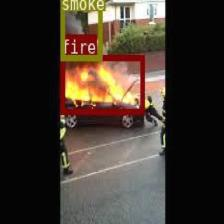fire: (60, 54, 144, 113)
smoke: (59, 0, 101, 59)
